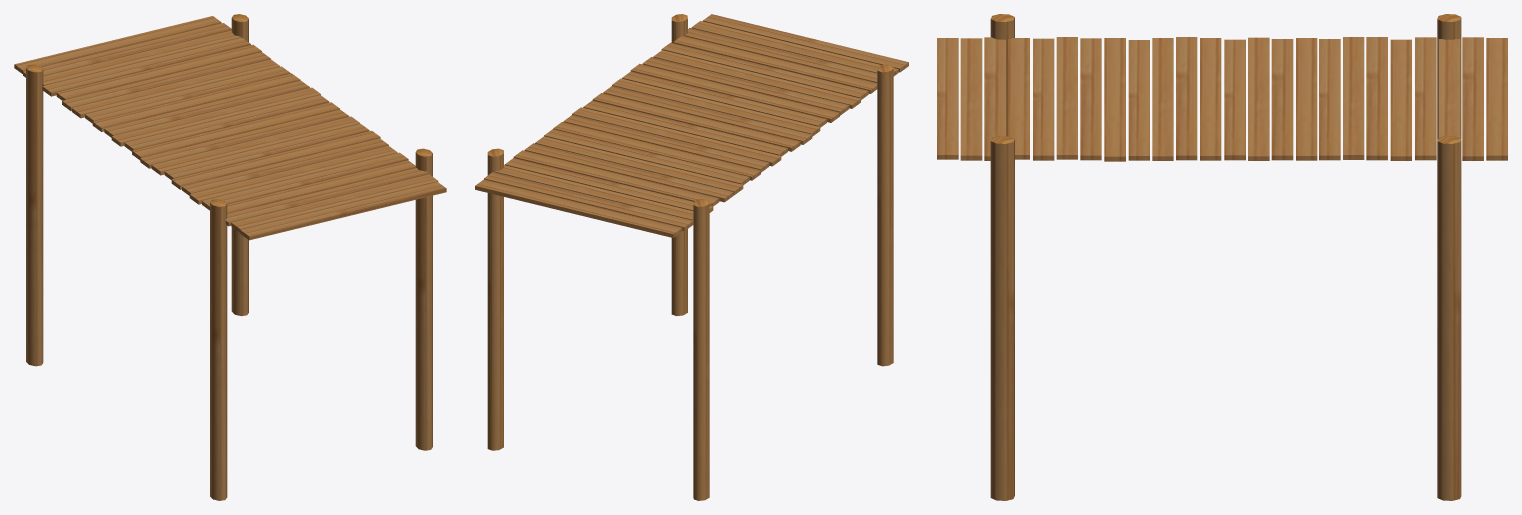
The model's file is WoodBridges.fbx.
3 views of the same model, side by side, from view 1: azimuth 30°, elevation 25°; view 2: azimuth 150°, elevation 25°; view 3: azimuth 270°, elevation 25° (orthographic). The views are drawn at different scales.
Visible parts, largest first — view 1: WoodBridge_01; view 2: WoodBridge_01; view 3: WoodBridge_01.
Boxes of the visible parts, x1,y1,x2,y2 form: WoodBridge_01: (14, 14, 446, 500); WoodBridge_01: (475, 14, 908, 500); WoodBridge_01: (937, 14, 1507, 500).
Bounding box in the file's own units: 11.34 × 14.64 × 21.05.
